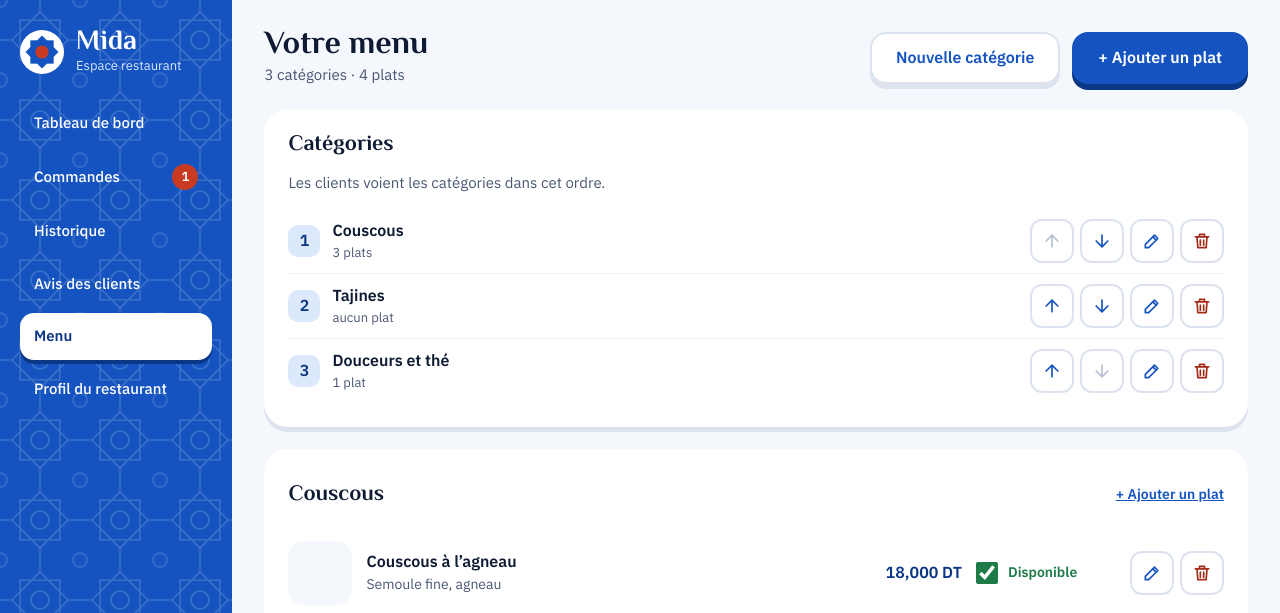
Scenario: menu : catégories (US09) › crée une catégorie à la fin du menu
The image size is (1280, 613).
Click the button "Nouvelle catégorie" at (965, 58), box [870, 32, 1060, 84]
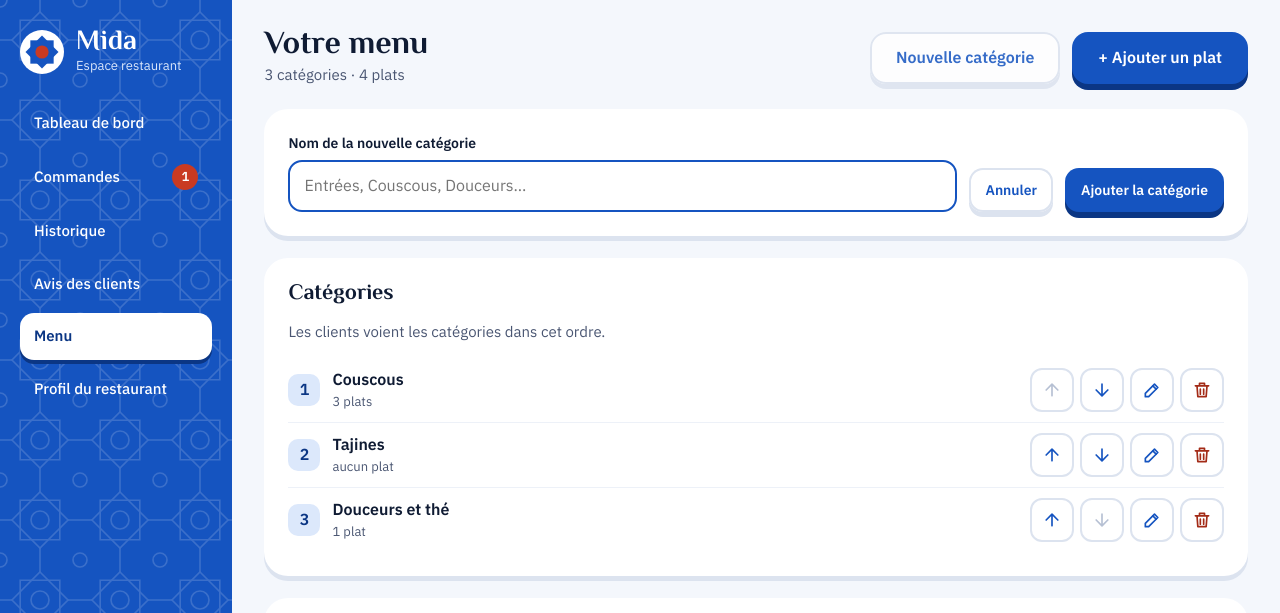
Type "  Entrées et briks " into the field labelled "Nom de la nouvelle catégorie" at (623, 186), box [288, 160, 958, 212]
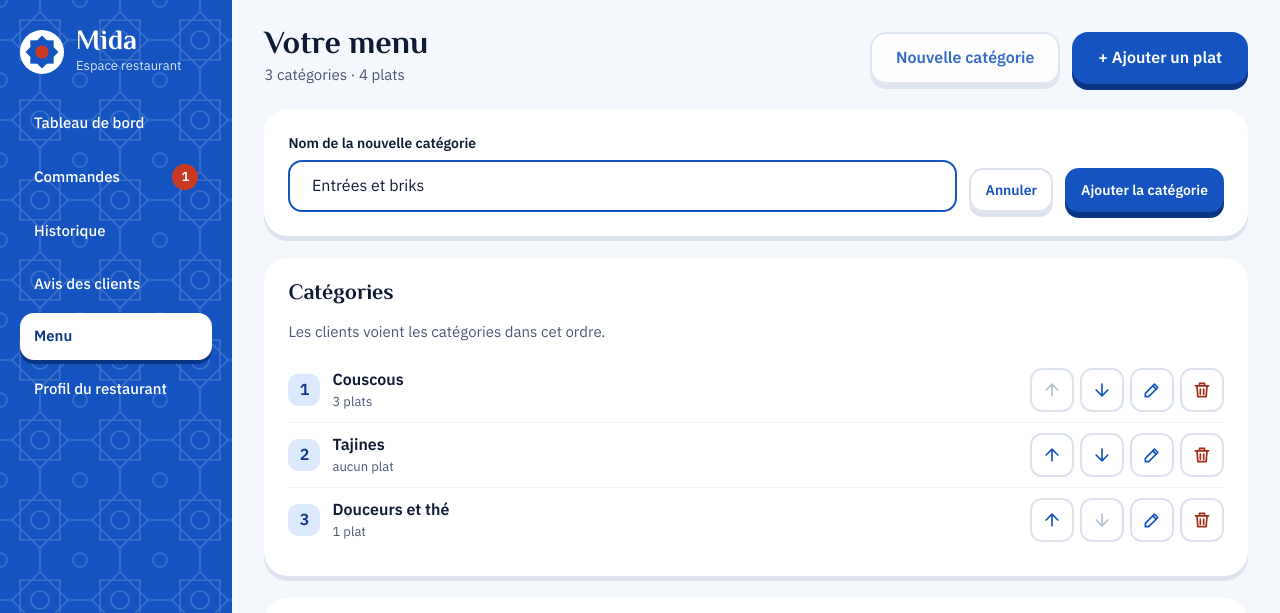
Click the button "Ajouter la catégorie" at (1144, 190), box [1065, 168, 1224, 212]
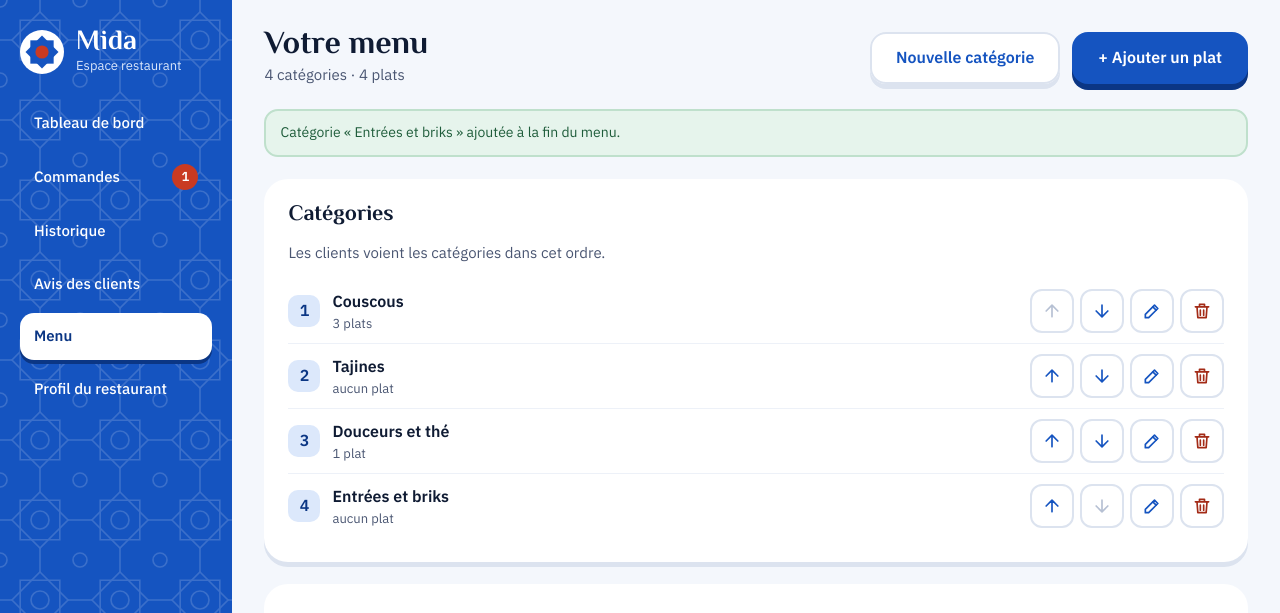
Now the message shows "Catégorie « Entrées et briks » ajoutée", box [280, 122, 620, 143]
Now the label labelled "Nom de la nouvelle catégorie" is gone
